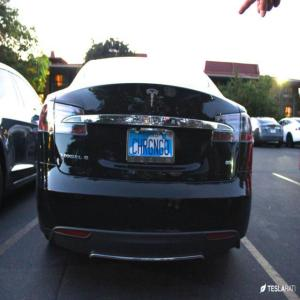Plate: (127, 129, 174, 163)
